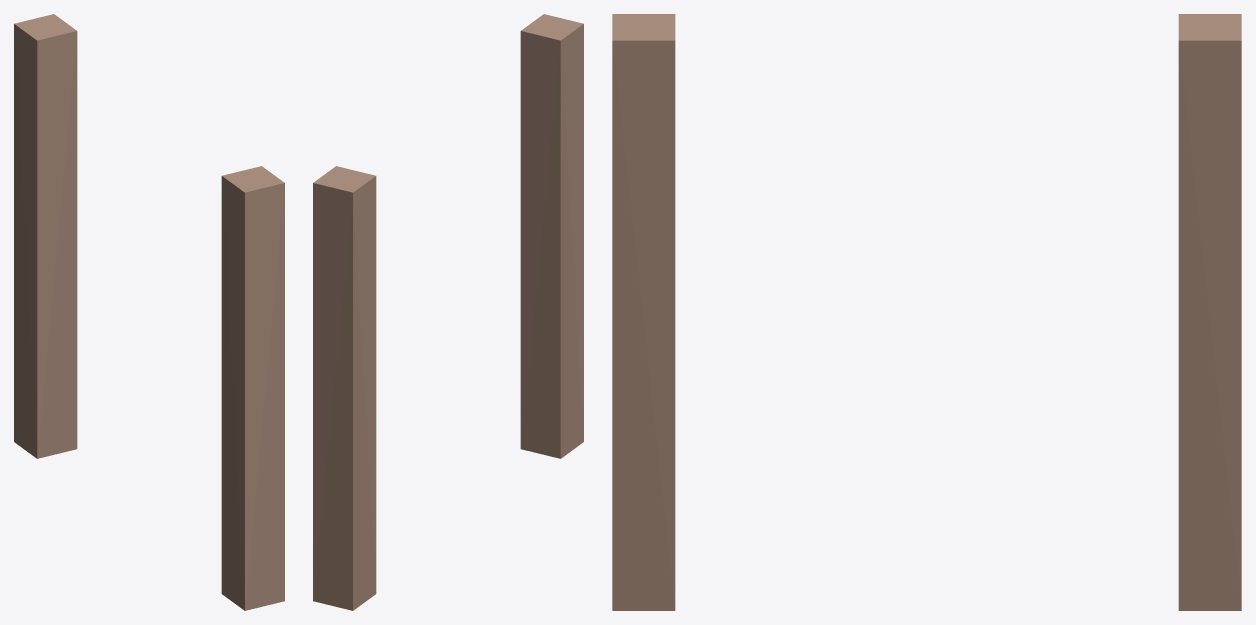
File: kenney_poles.fbx
3 views of the same model, side by side, from view 1: azimuth 30°, elevation 25°; view 2: azimuth 150°, elevation 25°; view 3: azimuth 270°, elevation 25° (orthographic). The views are drawn at different scales.
Visible parts, largest first — view 1: poles; view 2: poles; view 3: poles.
Part boxes in pixels (x1=…): poles: x1=14, y1=14, x2=284, y2=610; poles: x1=313, y1=14, x2=583, y2=610; poles: x1=612, y1=14, x2=1241, y2=610.
Size of the model in its own units: 10 by 100 by 100.
